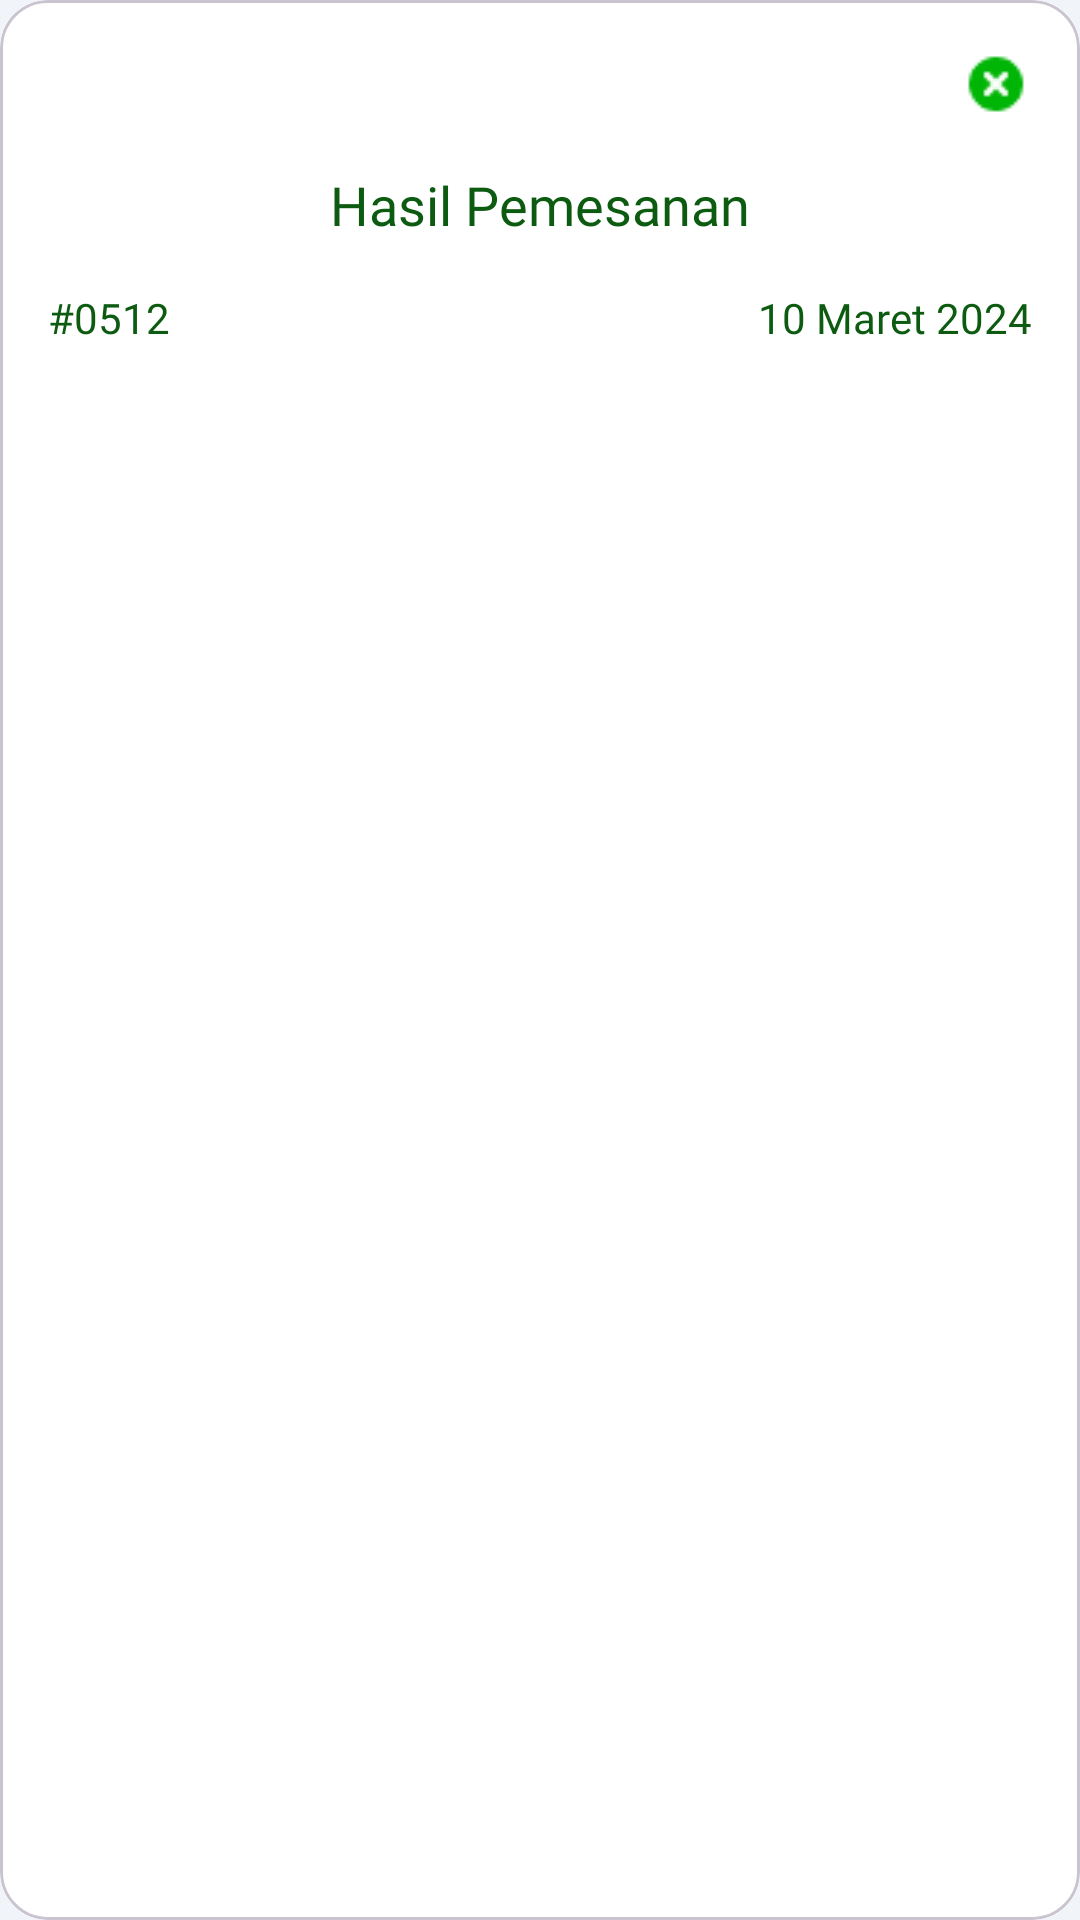

Named icons in this screenshot (1080*1920) and their centers, [x,y]:
close: [996,84]
